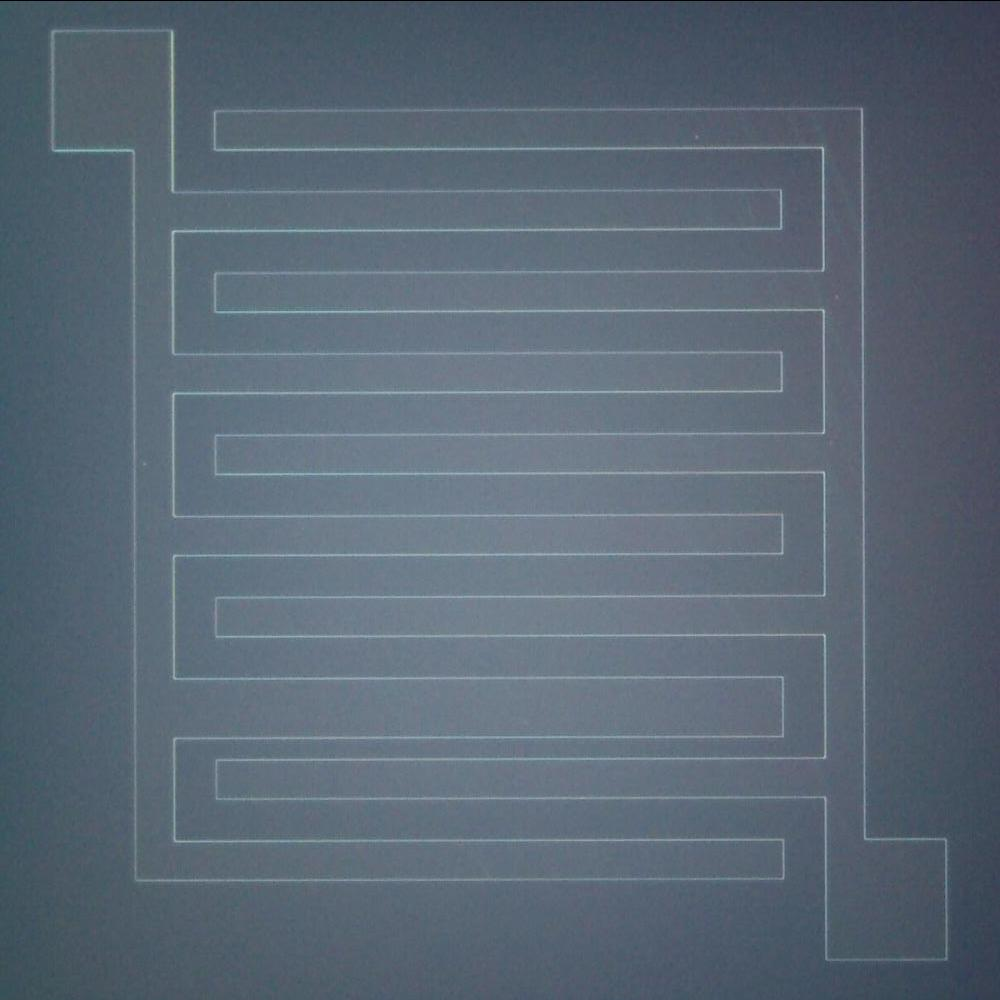fat circuit: (158, 670, 788, 744)
